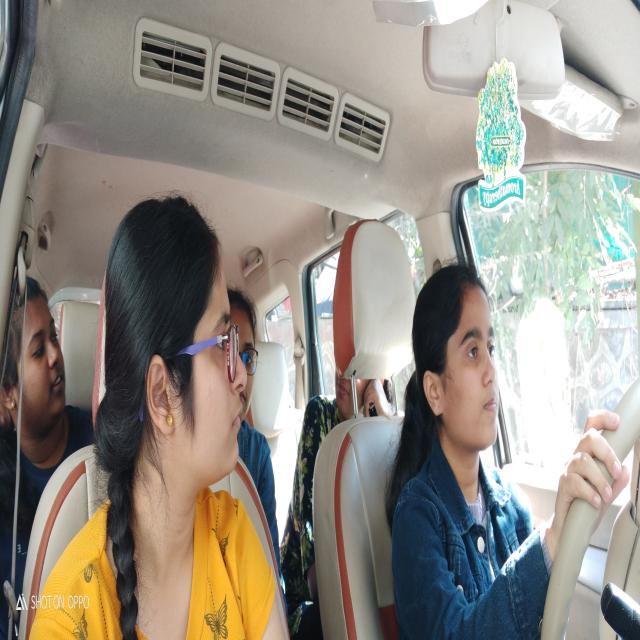person: (104, 194, 254, 512), (409, 247, 509, 474), (10, 278, 73, 430), (226, 278, 259, 440)
